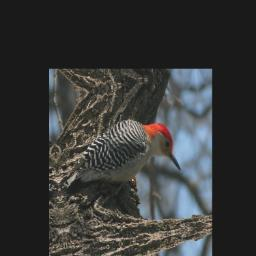Woodpecker: (55, 107, 183, 209)
